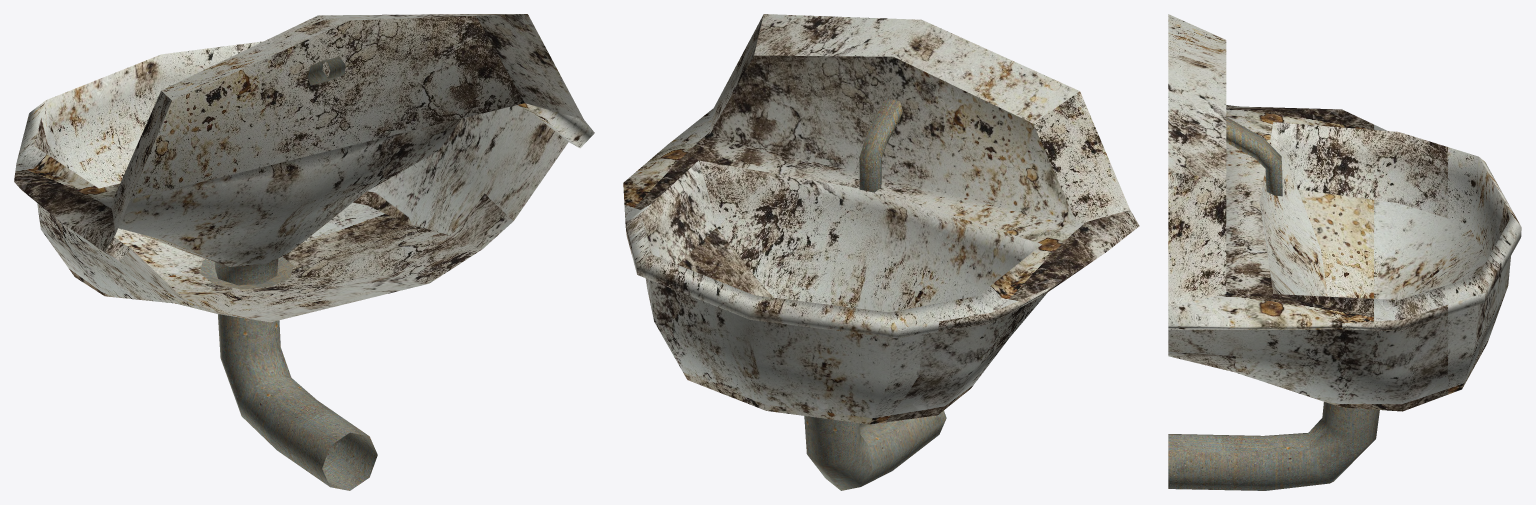
Rendered from PrisonSink.gltf.
3 views of the same model, side by side, from view 1: azimuth 30°, elevation 25°; view 2: azimuth 150°, elevation 25°; view 3: azimuth 270°, elevation 25° (orthographic). The views are drawn at different scales.
Parts seen in each view (by area): view 1: Cube; view 2: Cube; view 3: Cube.
Boxes of the visible parts, x1,y1,x2,y2 form: Cube: (14, 14, 594, 490); Cube: (623, 14, 1139, 490); Cube: (1168, 14, 1521, 490).
Bounding box in the file's own units: 0.9245 × 0.8452 × 0.6287.
2 materials, 2 textured.
